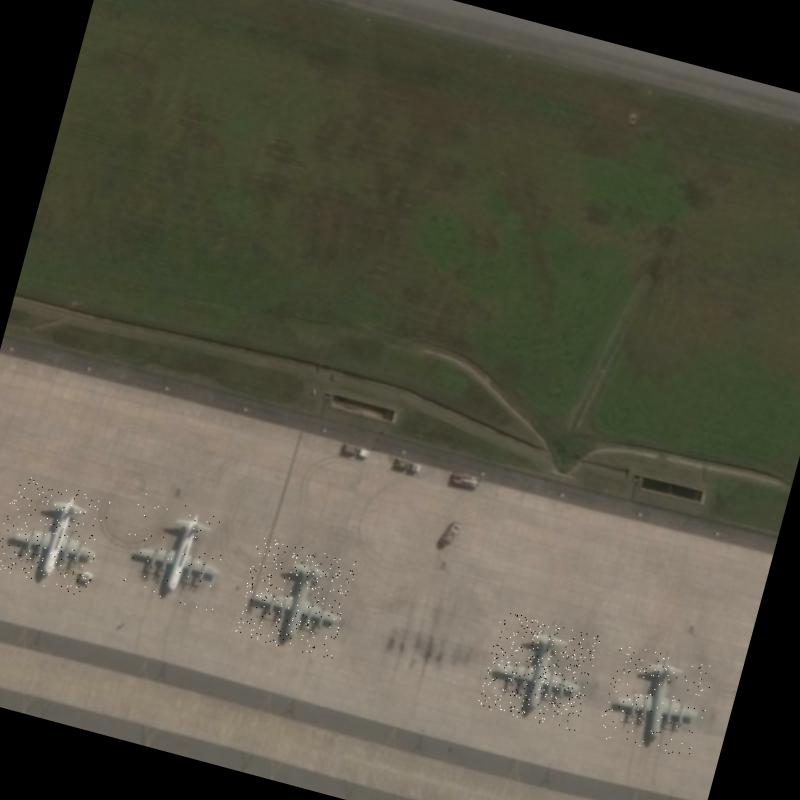A9: (232, 535, 358, 660), (476, 610, 600, 732), (114, 492, 237, 611), (596, 642, 716, 761), (0, 472, 112, 597)
